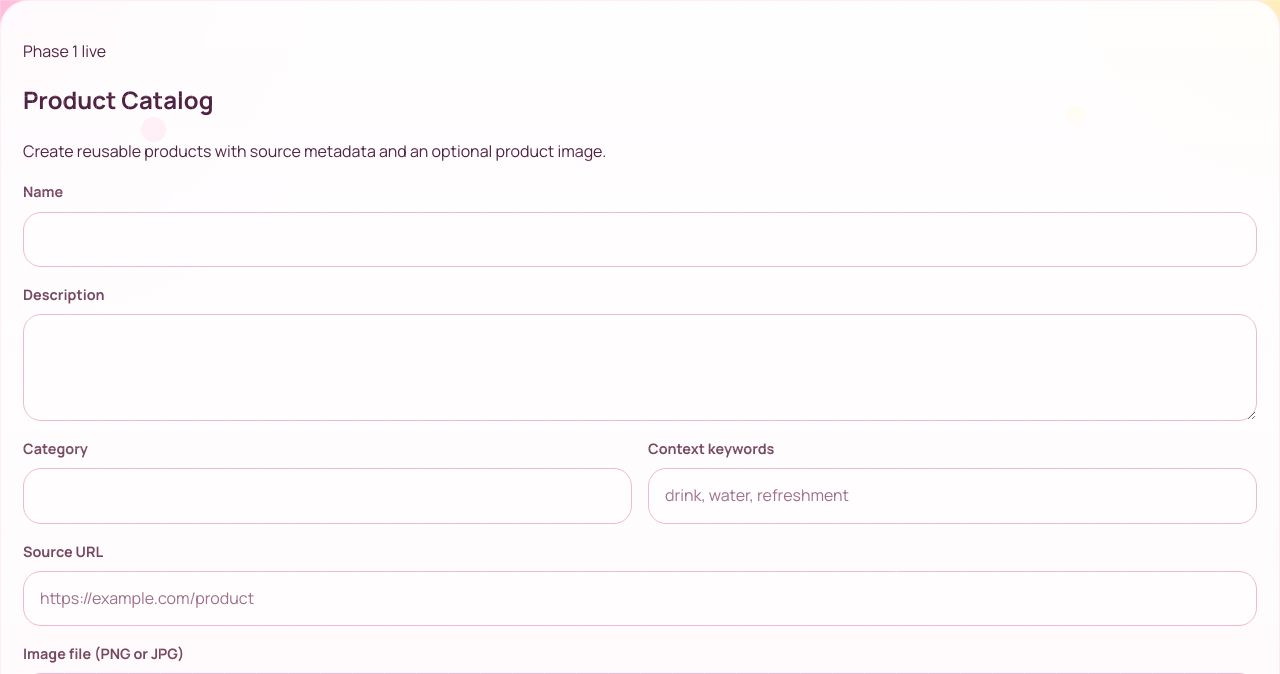
Phase 1 forms › creates a product and renders it in the catalog
The width and height of the screenshot is (1280, 674).
Type "sparkling water" into the field labelled "Name".
click(640, 239); type("sparkling water")  # box [23, 212, 1257, 267]
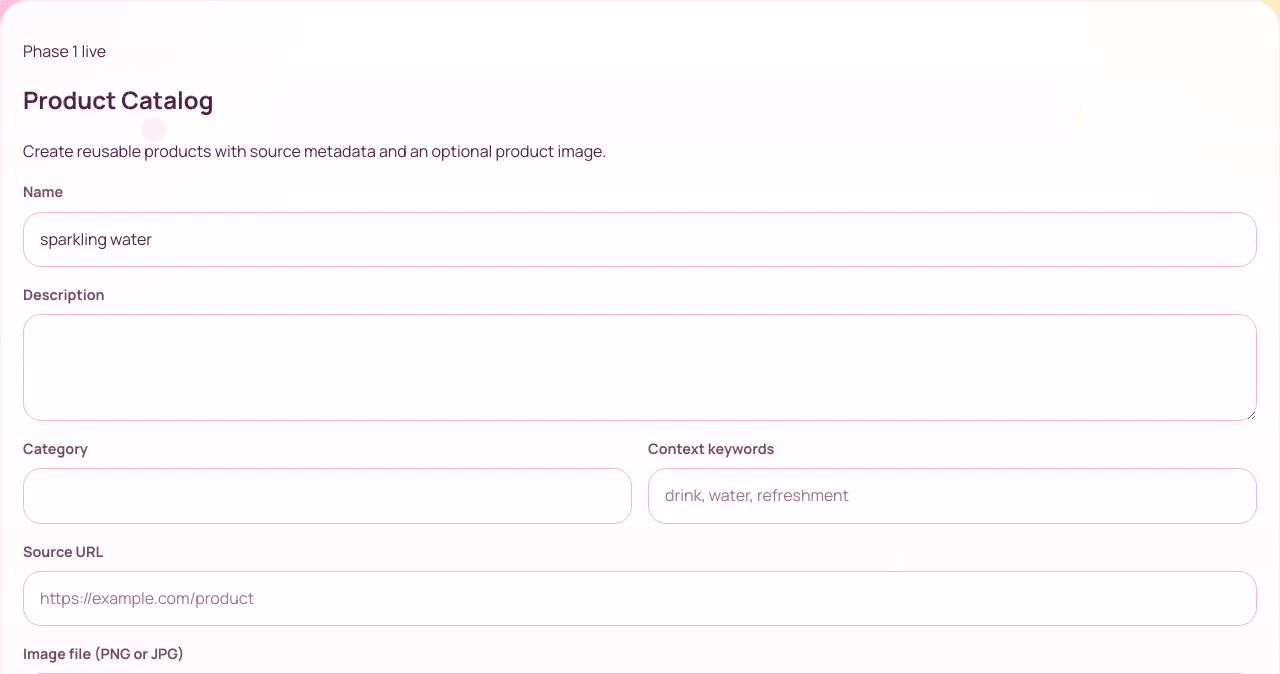
Type "light citrus" into the text box labelled "Description".
click(640, 368); type("light citrus")  # box [23, 314, 1257, 421]
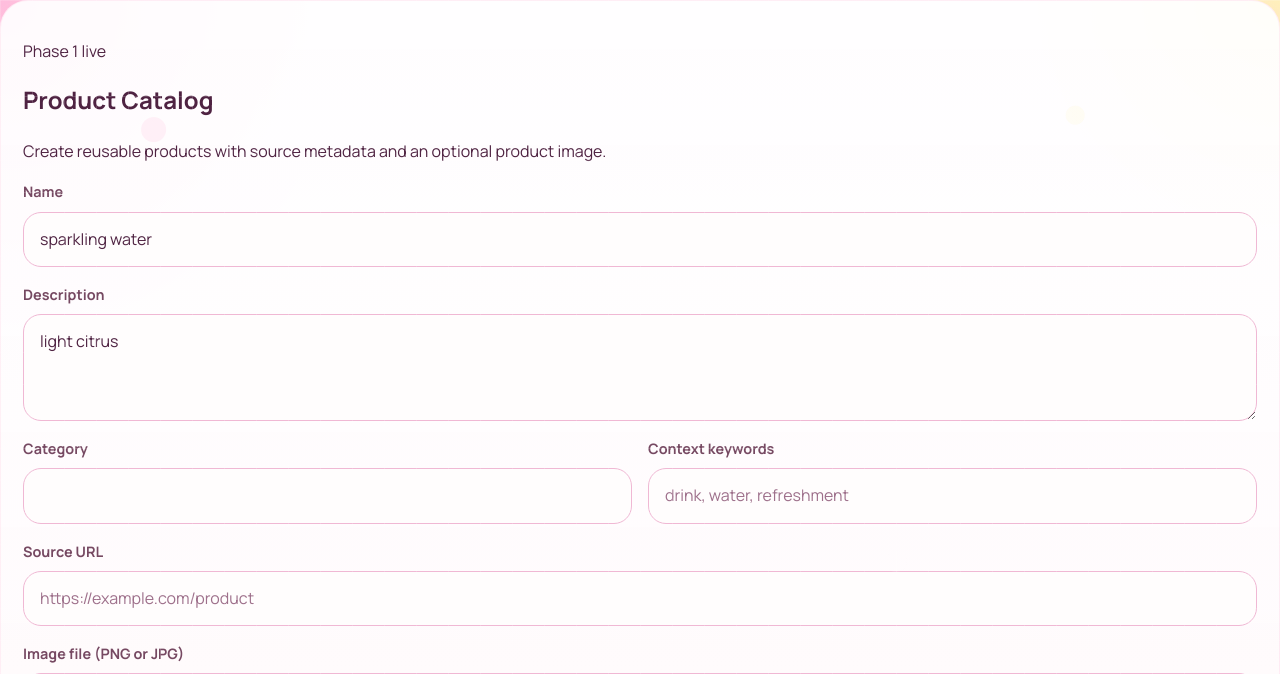
Type "https://example.com/water" into the field labelled "Source URL".
click(640, 598); type("https://example.com/water")  # box [23, 571, 1257, 626]
(page scrolled)
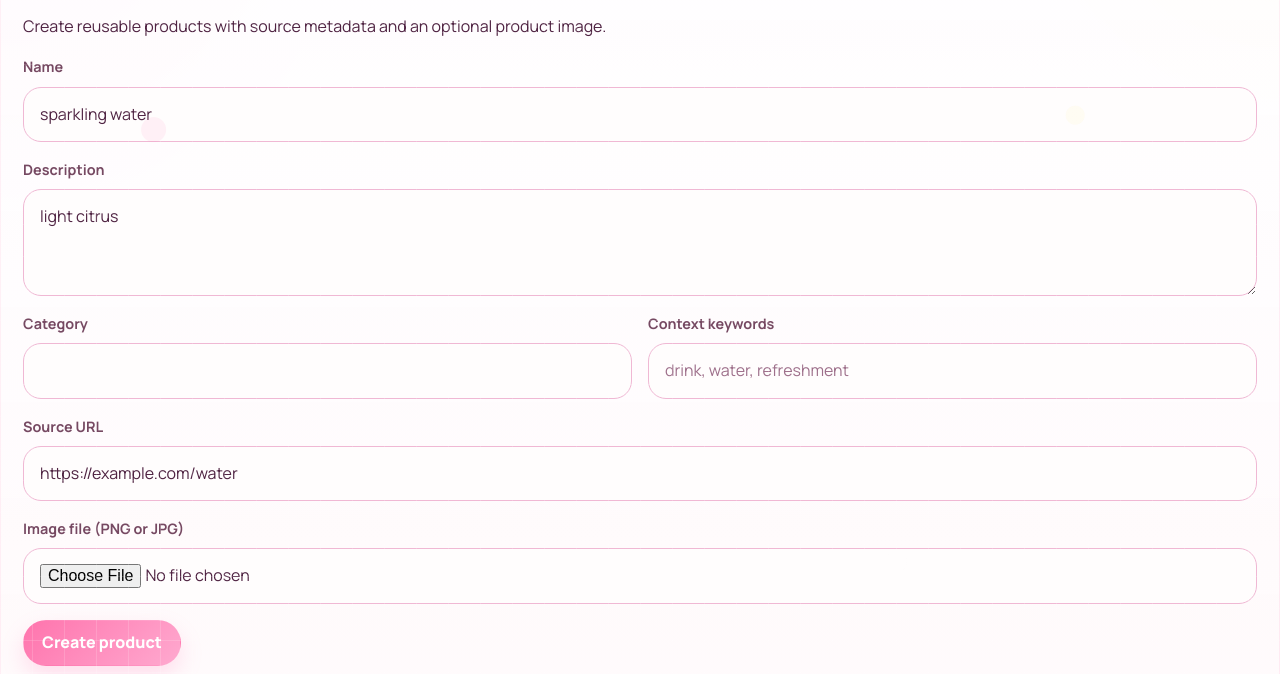
Submit the form named "Create product"
(page scrolled)
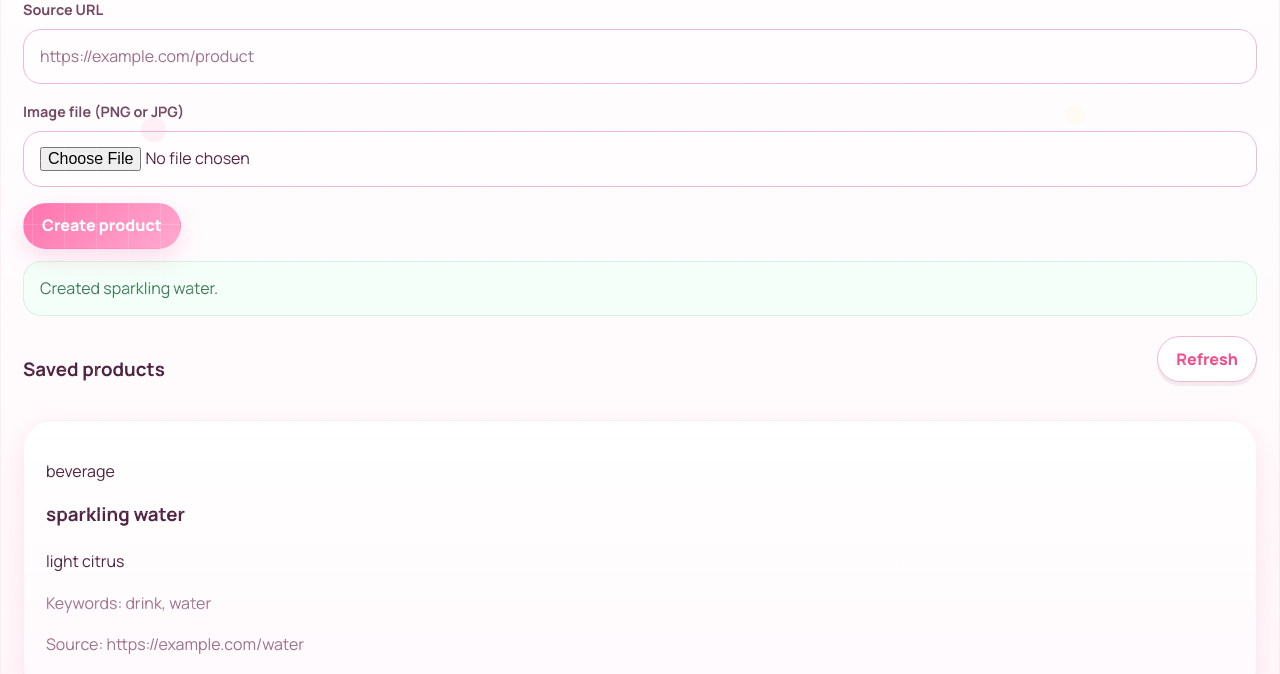
expect the text "Created sparkling water." is shown: met, box [23, 261, 1257, 316]
expect the heading "sparkling water" is shown: met, box [46, 501, 185, 527]
